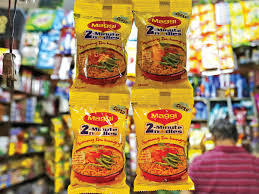maggie: (71, 100, 131, 193), (133, 101, 195, 190), (72, 12, 129, 91), (135, 12, 191, 89)
